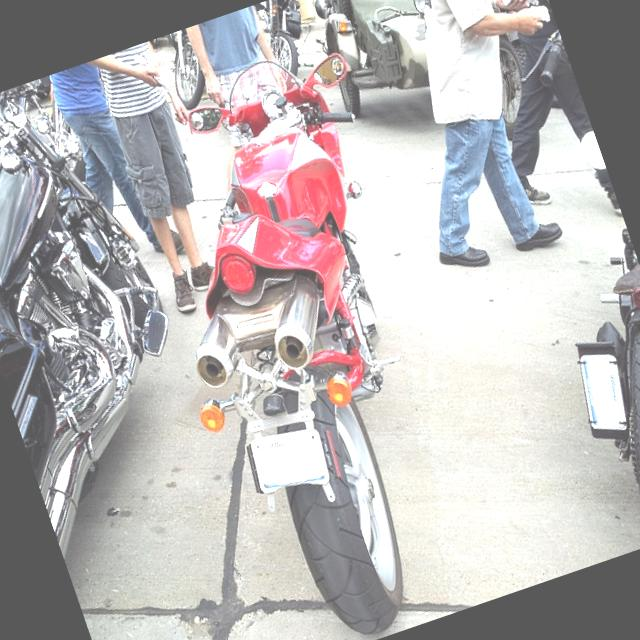Vehicle: (99, 31, 523, 640), (0, 64, 259, 640), (493, 127, 640, 552), (297, 0, 555, 191), (246, 0, 329, 87), (156, 28, 211, 108)
